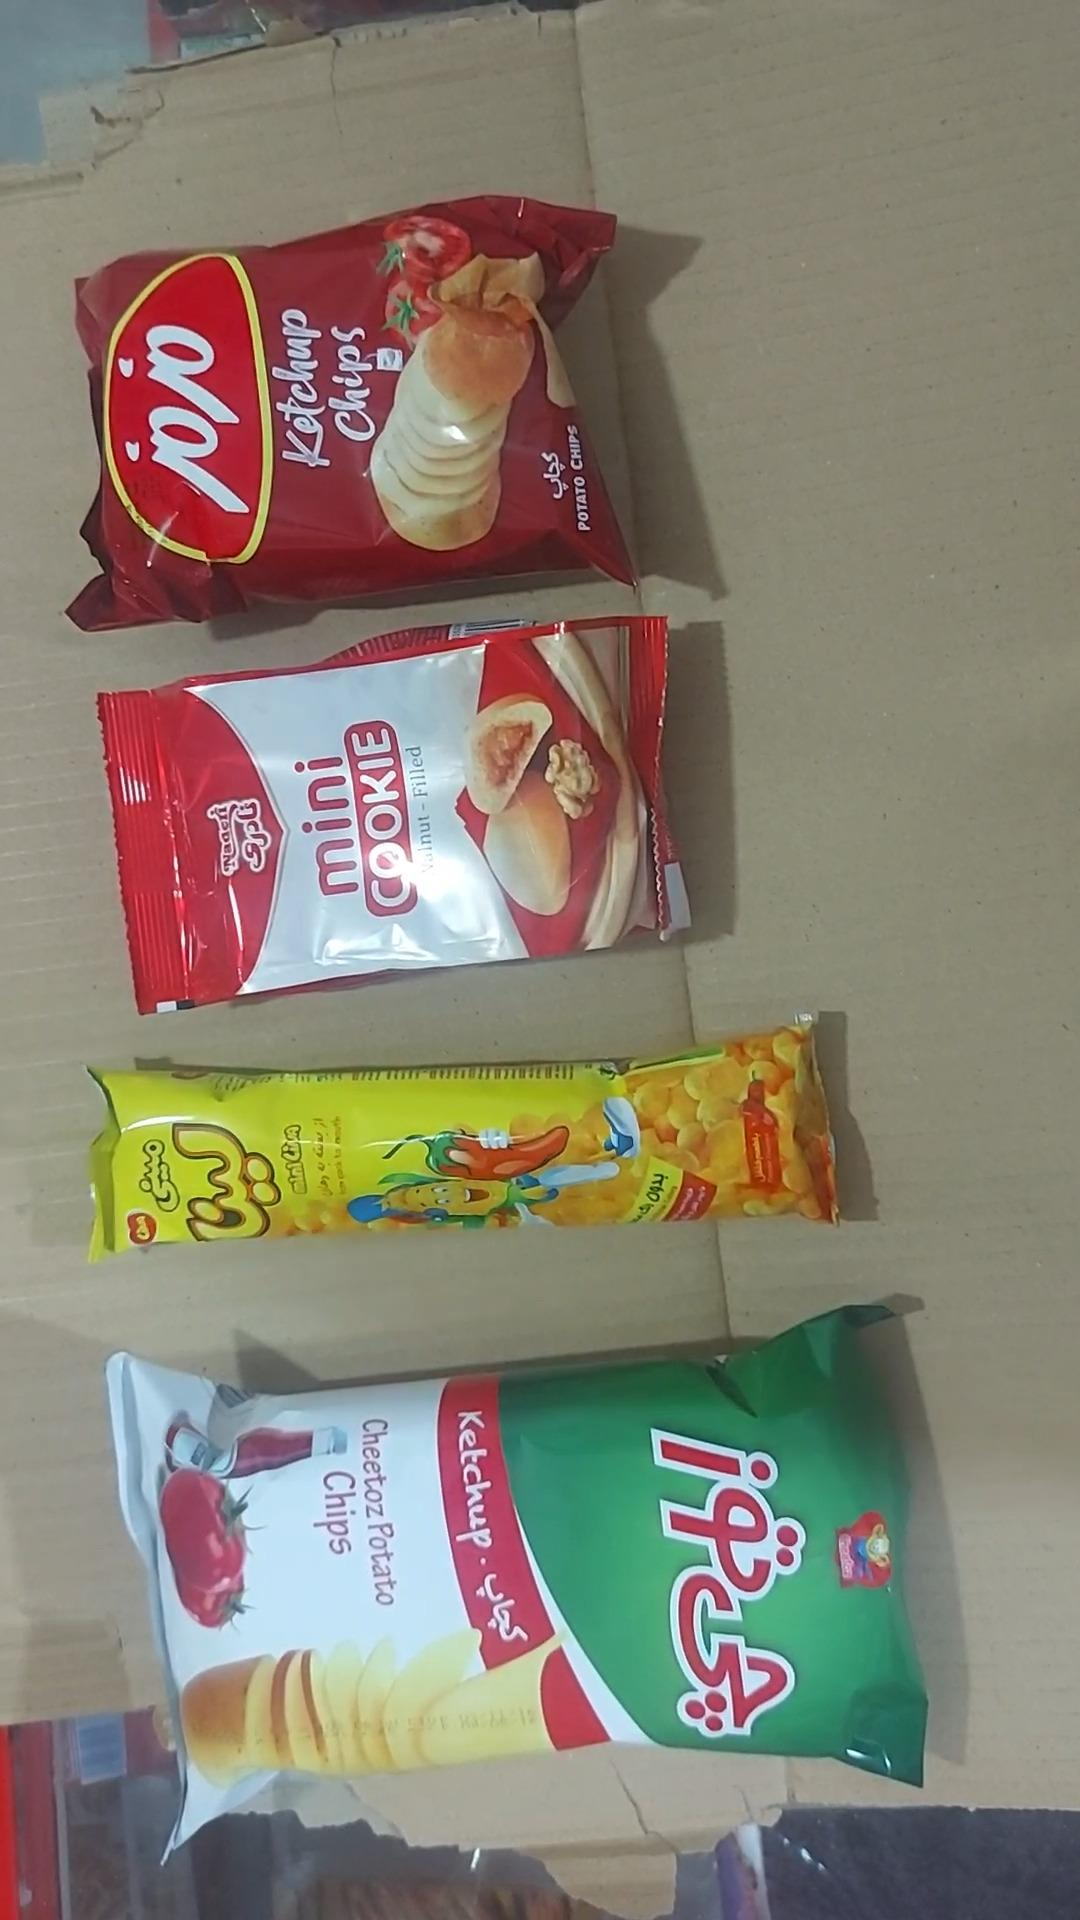Cheetoz ketchup chips: (105, 1307, 930, 1865)
Maz Maz ketchup chips: (66, 196, 633, 634)
Mini Lina: (84, 1014, 839, 1265)
Naderi mini cookie: (95, 616, 692, 1018)
